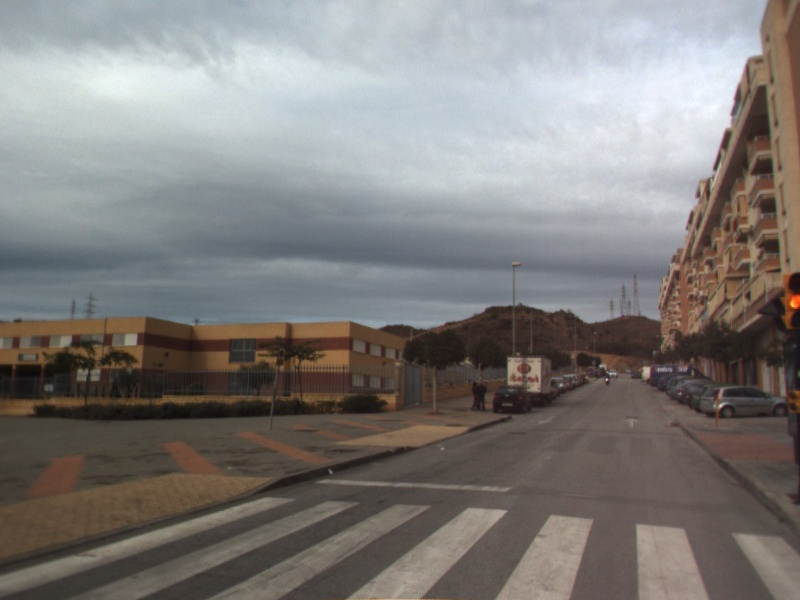STRAIGHT: (622, 415, 641, 429)
